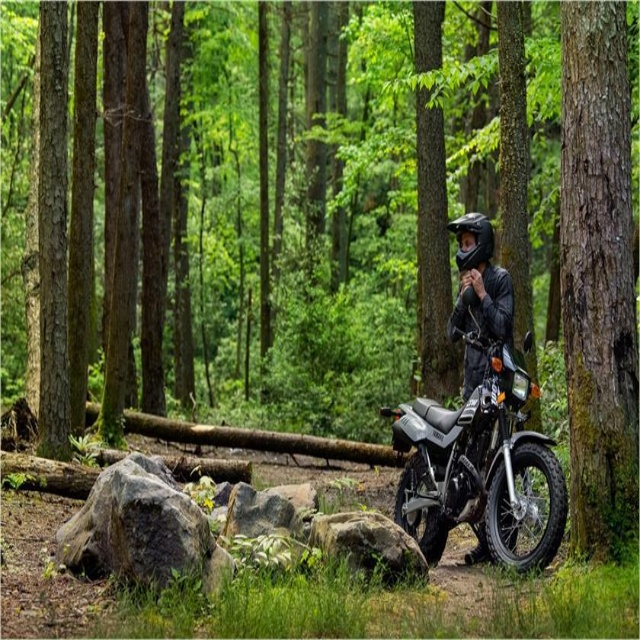Motorcycle: (379, 285, 570, 575)
